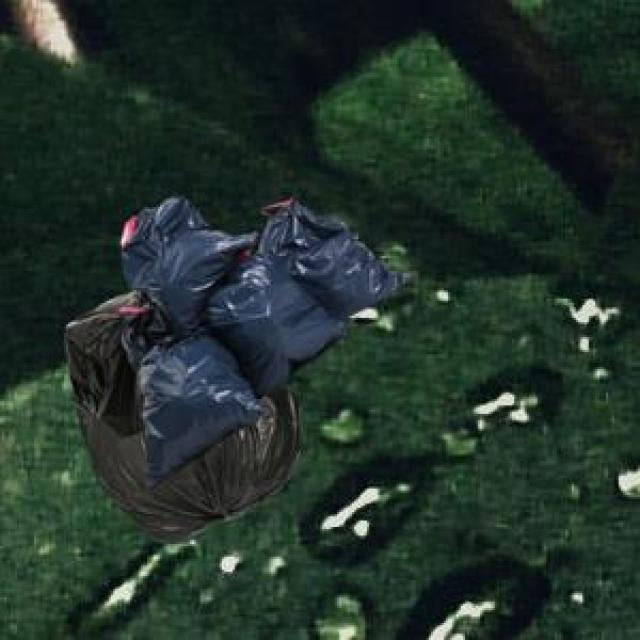Vinyl: (66, 198, 402, 541)
